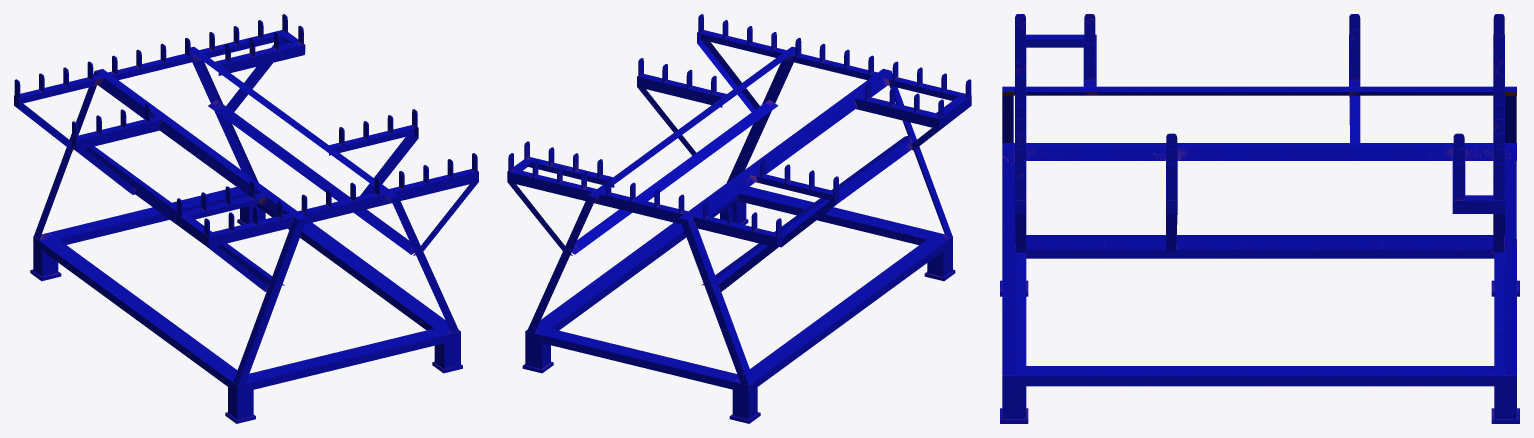
File: Tong Stand 2.fbx
3 views of the same model, side by side, from view 1: azimuth 30°, elevation 25°; view 2: azimuth 150°, elevation 25°; view 3: azimuth 270°, elevation 25° (orthographic). The views are drawn at different scales.
Parts seen in each view (by area): view 1: Tong Stand; view 2: Tong Stand; view 3: Tong Stand.
Part boxes in pixels (x1,y1,x2,y2): Tong Stand: (14, 14, 478, 423); Tong Stand: (507, 14, 971, 423); Tong Stand: (1000, 14, 1519, 423).
Bounding box in the file's own units: 3262 × 2350 × 4306.
Materials: 1 (1 with a texture image).
